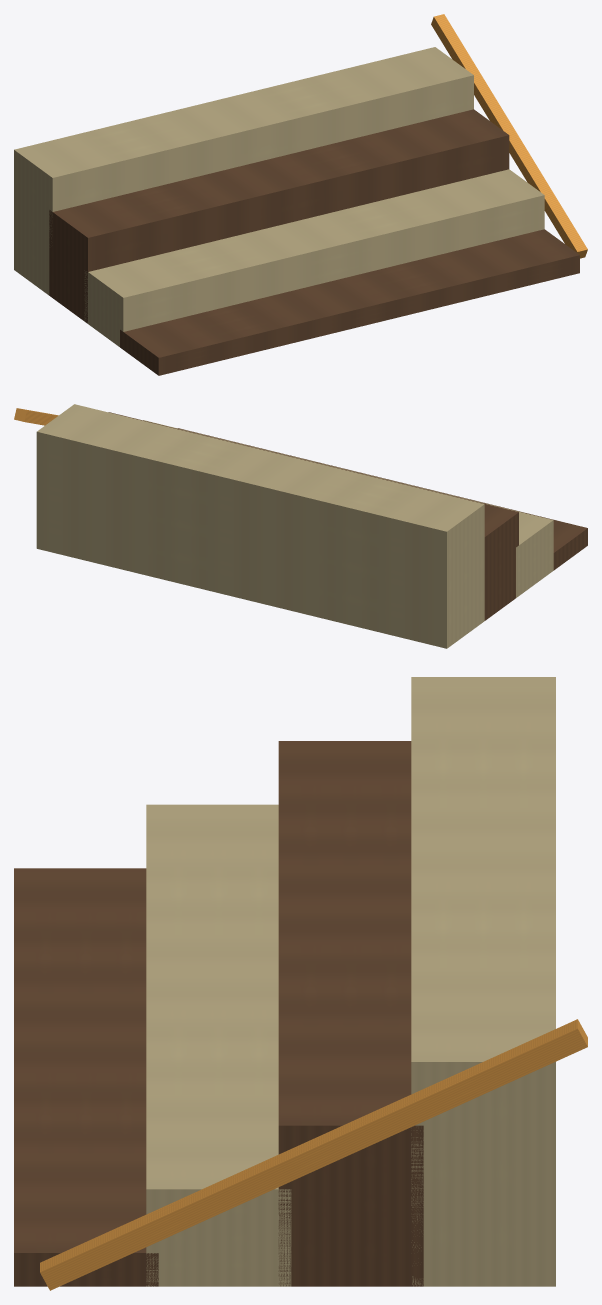
The model's file is atlas100-s011-a10.lod1.glb.
The picture shows the model from 3 angles, top to bottom: view 1: azimuth 30°, elevation 25°; view 2: azimuth 150°, elevation 25°; view 3: azimuth 270°, elevation 25°; orthographic projection. The views are drawn at different scales.
Visible parts, largest first — view 1: atlas100-s011-a10:part-003, atlas100-s011-a10:part-002, atlas100-s011-a10:part-001, atlas100-s011-a10:part-000, atlas100-s011-a10:part-005; view 2: atlas100-s011-a10:part-003, atlas100-s011-a10:part-002, atlas100-s011-a10:part-001, atlas100-s011-a10:part-000, atlas100-s011-a10:part-005; view 3: atlas100-s011-a10:part-003, atlas100-s011-a10:part-002, atlas100-s011-a10:part-001, atlas100-s011-a10:part-000, atlas100-s011-a10:part-005.
Part boxes in pixels (bbox=[...]): atlas100-s011-a10:part-003: bbox=[14, 47, 473, 295]; atlas100-s011-a10:part-002: bbox=[49, 109, 509, 323]; atlas100-s011-a10:part-001: bbox=[84, 169, 544, 346]; atlas100-s011-a10:part-000: bbox=[120, 229, 579, 375]; atlas100-s011-a10:part-005: bbox=[431, 14, 587, 258]; atlas100-s011-a10:part-003: bbox=[36, 404, 484, 648]; atlas100-s011-a10:part-002: bbox=[108, 412, 518, 620]; atlas100-s011-a10:part-001: bbox=[143, 420, 553, 597]; atlas100-s011-a10:part-000: bbox=[178, 428, 587, 570]; atlas100-s011-a10:part-005: bbox=[14, 408, 58, 425]; atlas100-s011-a10:part-003: bbox=[411, 677, 555, 1286]; atlas100-s011-a10:part-002: bbox=[278, 741, 423, 1286]; atlas100-s011-a10:part-001: bbox=[146, 804, 291, 1286]; atlas100-s011-a10:part-000: bbox=[14, 868, 158, 1286]; atlas100-s011-a10:part-005: bbox=[40, 1019, 587, 1290].
Bounding box in the file's own units: 2.28 × 0.7246 × 1.39.
Materials: 3 (3 with a texture image).
